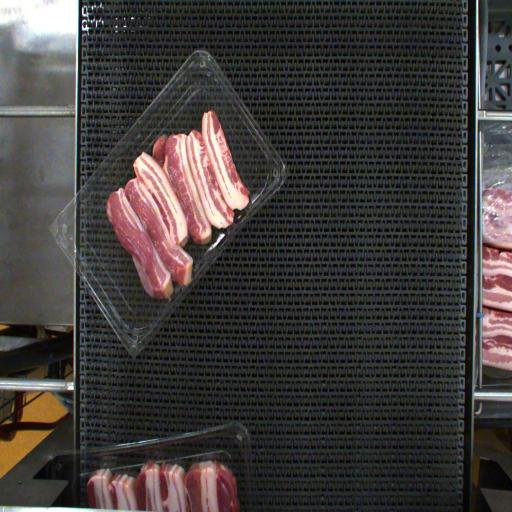packaging-error: (163, 273, 200, 302)
